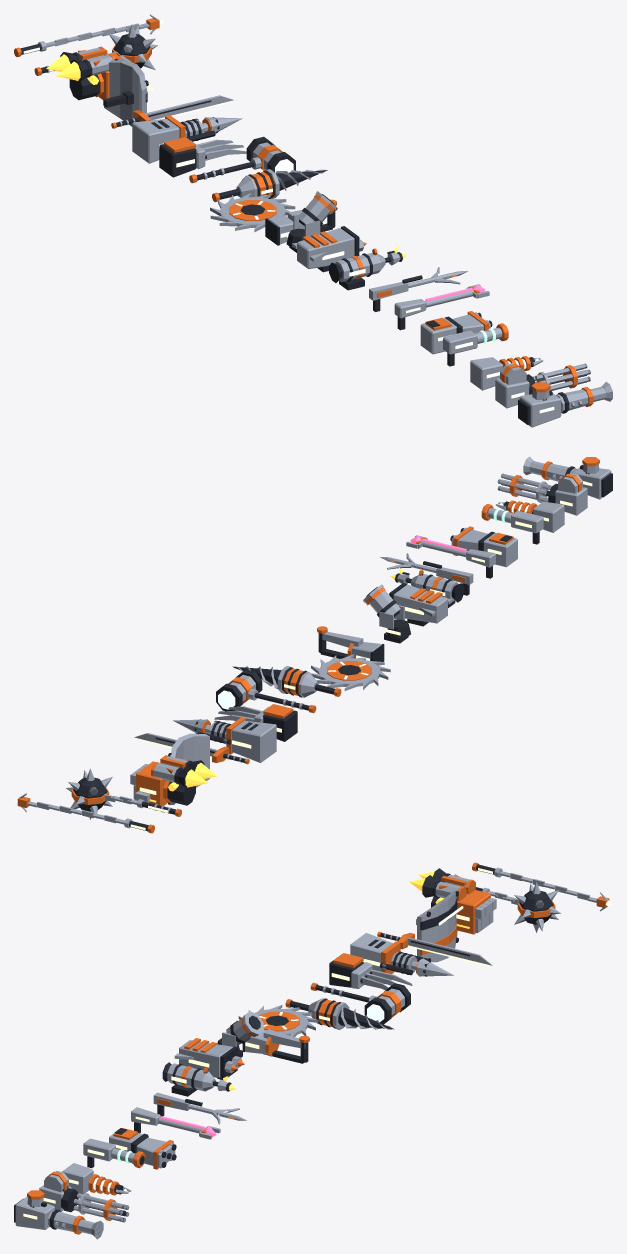
File: guns.glb
3 renders of one model, top to bottom at view 1: azimuth 30°, elevation 25°; view 2: azimuth 150°, elevation 25°; view 3: azimuth 330°, elevation 25°, orthographic. The views are drawn at different scales.
Parts seen in each view (by area): view 1: bunker, fist, rivet, gatling, bash, missiles, claws, saw_disc, drill, flamer, hammer, scatter (+9 smaller); view 2: fist, bunker, gatling, saw_disc, rivet, flail, missiles, hammer, drill, scatter, claws, mortar (+9 smaller); view 3: fist, bunker, rivet, gatling, bash, missiles, claws, drill, hammer, flail, scatter, flamer (+9 smaller).
Boxes of the visible parts, x1=… form: bunker: x1=132, y1=115, x2=242, y2=163; fist: x1=46, y1=46, x2=131, y2=100; rivet: x1=518, y1=382, x2=612, y2=427; gatling: x1=495, y1=363, x2=590, y2=408; bash: x1=103, y1=58, x2=153, y2=126; missiles: x1=292, y1=226, x2=366, y2=272; claws: x1=159, y1=137, x2=246, y2=177; saw_disc: x1=210, y1=193, x2=295, y2=232; drill: x1=212, y1=169, x2=327, y2=202; flamer: x1=329, y1=245, x2=407, y2=290; hammer: x1=189, y1=136, x2=295, y2=183; scatter: x1=420, y1=311, x2=492, y2=354; fist: x1=130, y1=755, x2=217, y2=805; bunker: x1=173, y1=717, x2=276, y2=762; gatling: x1=497, y1=473, x2=587, y2=515; saw_disc: x1=311, y1=654, x2=390, y2=690; rivet: x1=523, y1=456, x2=612, y2=499; flail: x1=66, y1=768, x2=181, y2=819; missiles: x1=389, y1=583, x2=452, y2=626; hammer: x1=216, y1=669, x2=316, y2=713; drill: x1=232, y1=666, x2=341, y2=697; scatter: x1=450, y1=526, x2=517, y2=567; claws: x1=214, y1=704, x2=297, y2=741; mortar: x1=363, y1=584, x2=410, y2=643; fist: x1=409, y1=868, x2=496, y2=934; bunker: x1=350, y1=933, x2=453, y2=976; rivet: x1=14, y1=1190, x2=103, y2=1239; gatling: x1=39, y1=1171, x2=129, y2=1222; bash: x1=416, y1=891, x2=463, y2=962; missiles: x1=174, y1=1038, x2=244, y2=1078; claws: x1=329, y1=953, x2=412, y2=990; drill: x1=285, y1=998, x2=394, y2=1029; hammer: x1=310, y1=982, x2=410, y2=1025; flail: x1=475, y1=881, x2=560, y2=932; scatter: x1=109, y1=1128, x2=176, y2=1169; flamer: x1=162, y1=1062, x2=236, y2=1096.
Size of the model in its own units: 2.39 by 1.11 by 12.2.
